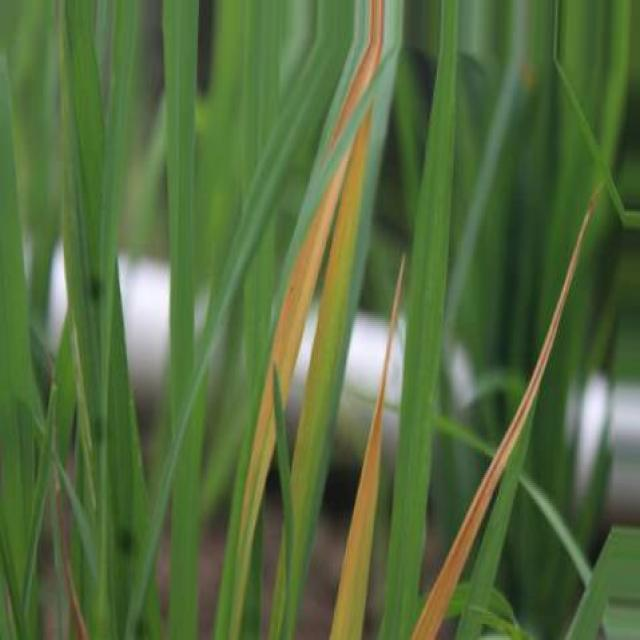Rice Tungro: (411, 192, 598, 639), (228, 153, 348, 638), (228, 153, 348, 637), (330, 256, 404, 640), (328, 0, 382, 150)
